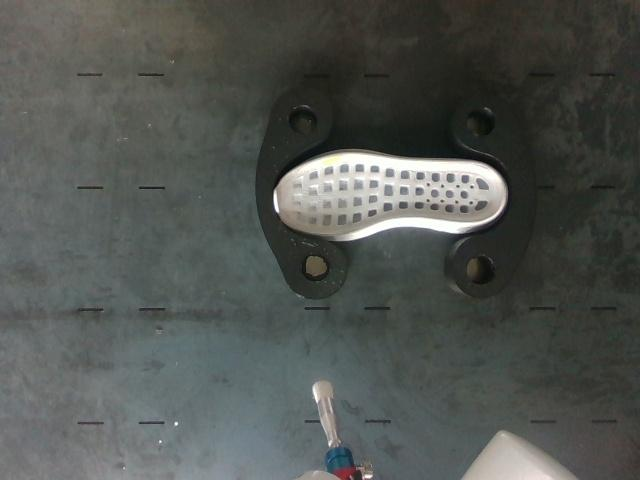shoes: (274, 153, 505, 234)
